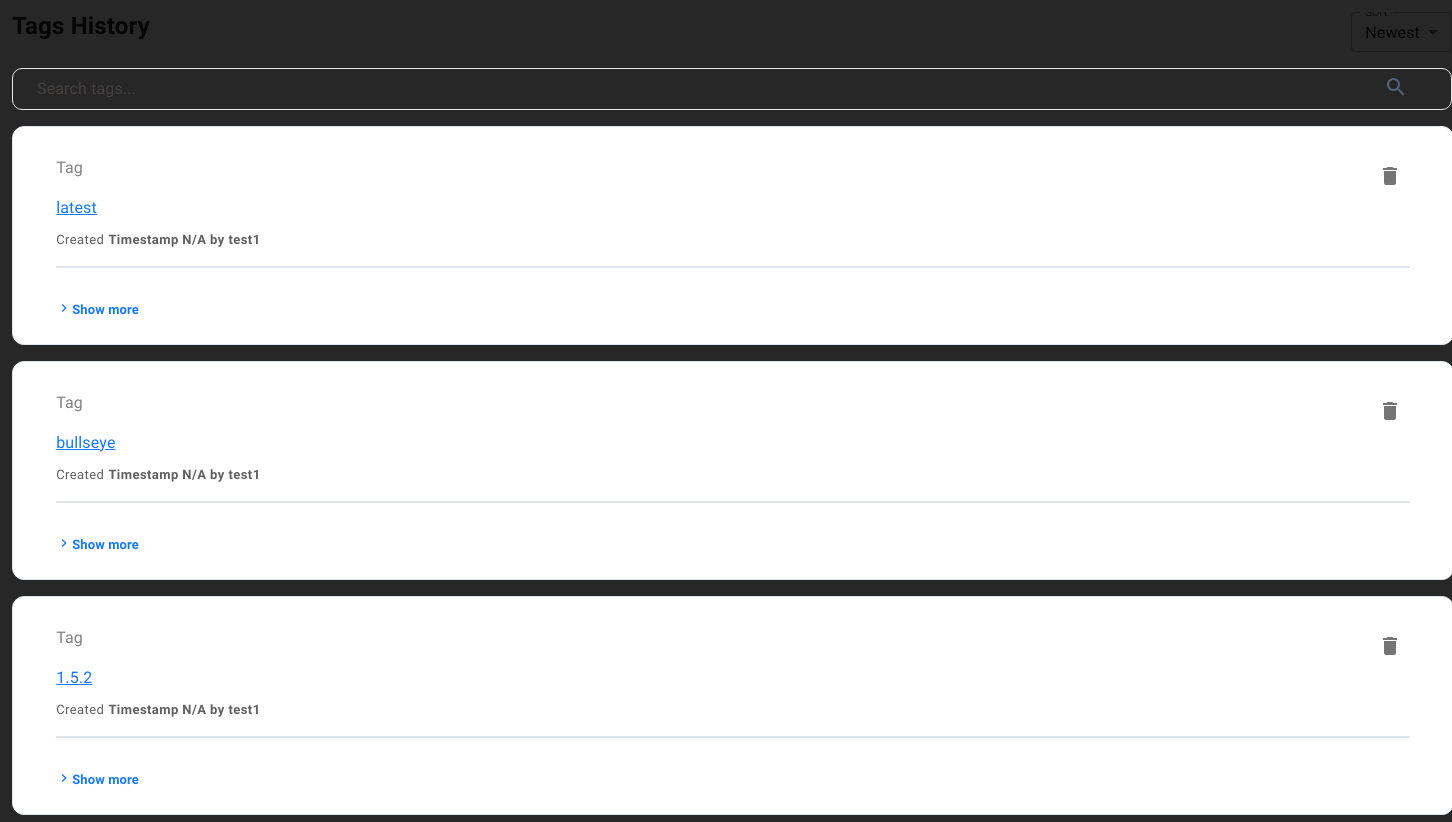
Scenario: Tags component › should sort tags based on the picked sort criteria
The width and height of the screenshot is (1452, 822).
Click the dropdown "Newest" at (1393, 32), box top-left (1365, 22), bottom-right (1420, 42)
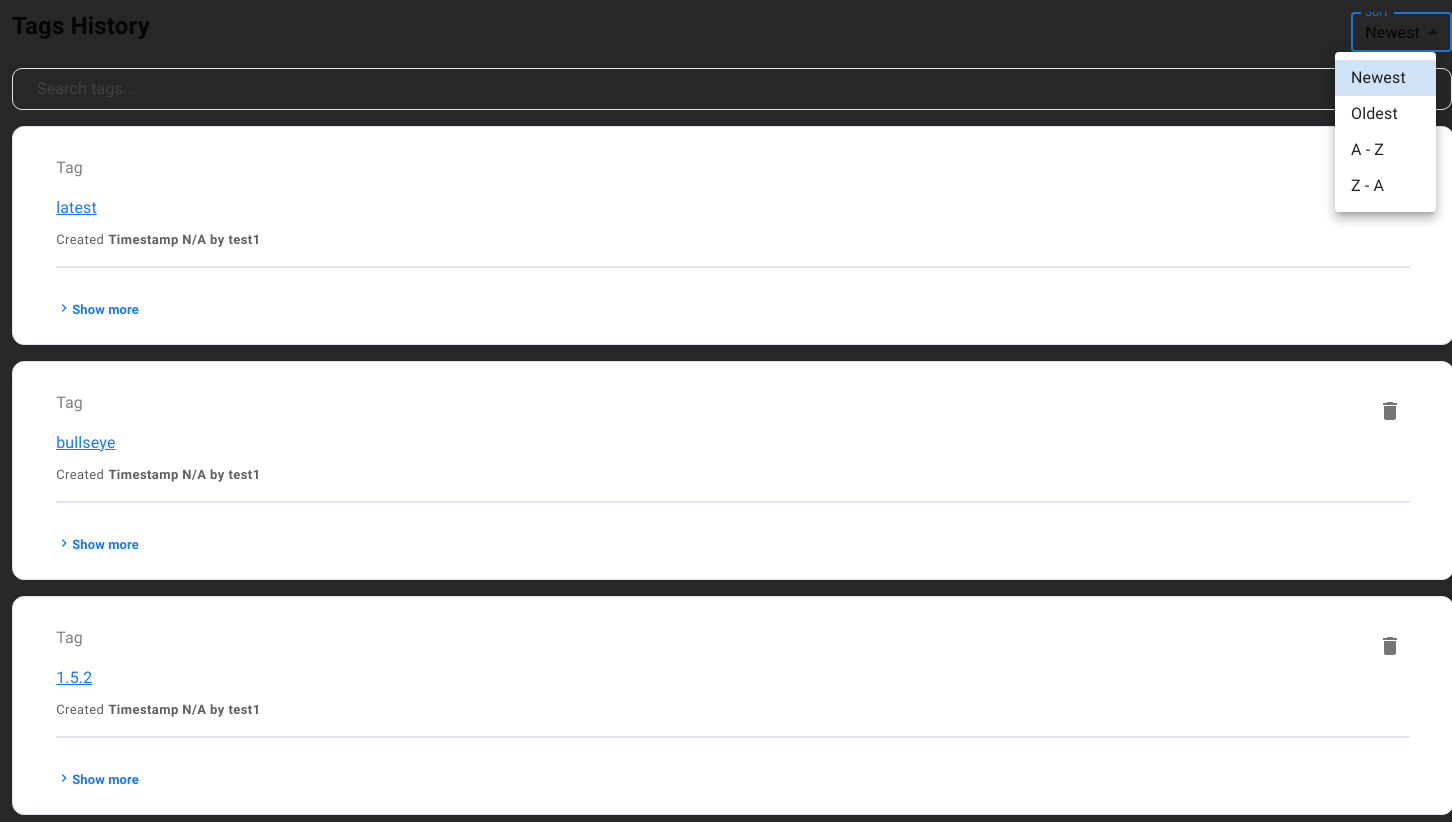
Click the option "A - Z" at (1368, 150), box top-left (1351, 140), bottom-right (1384, 159)
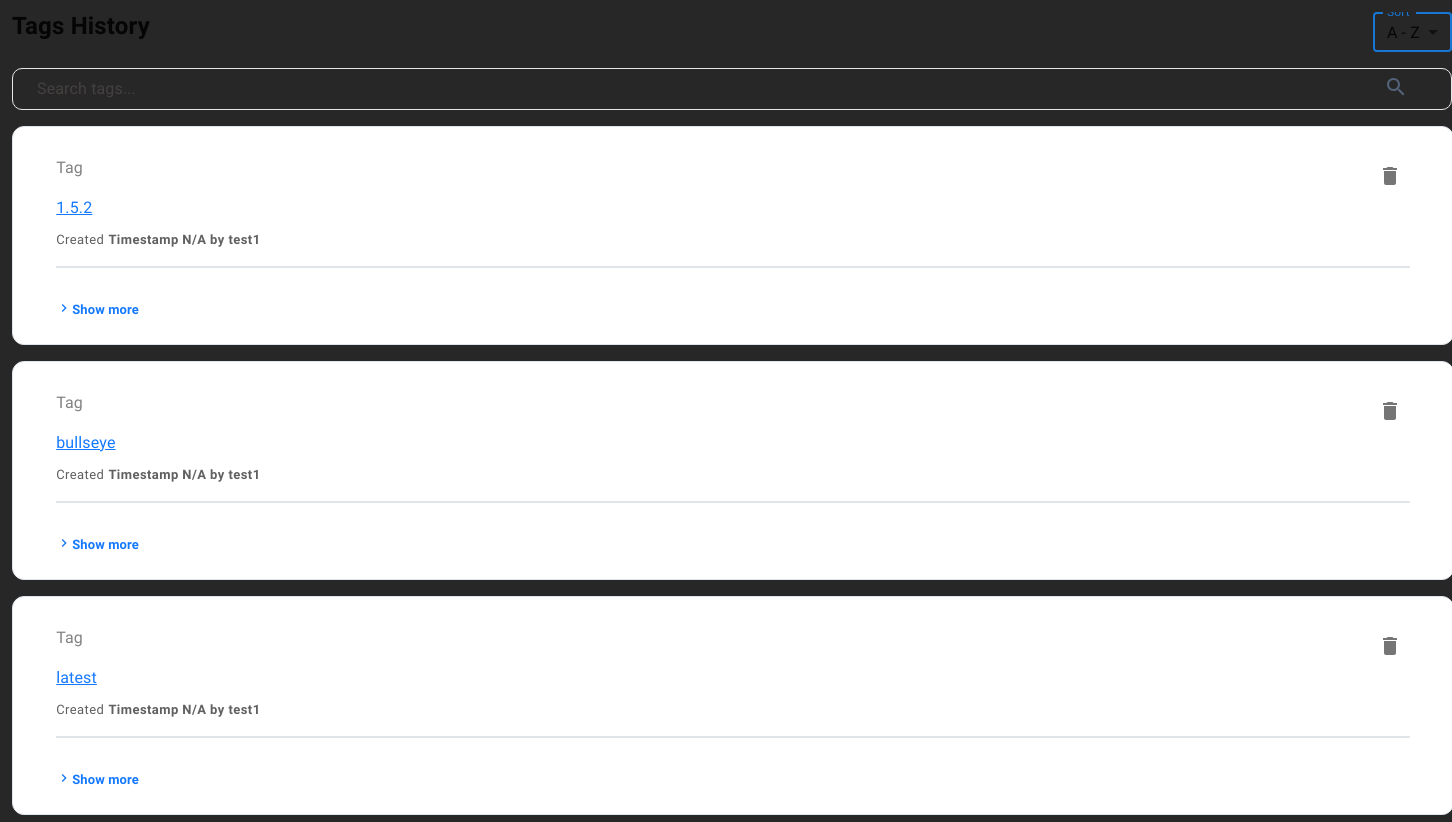
Result: the dropdown "A - Z" is shown at top-left (1387, 22), bottom-right (1420, 42)
Result: the dropdown "Newest" is gone
